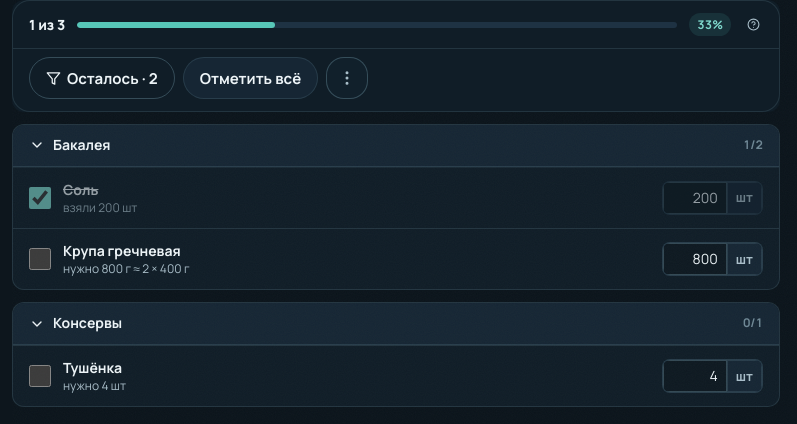
Test: ChecklistTab — прогресс и отметки (подзадача 6) › фильтр «только не взятое» скрывает отмеченные позиции
Click the button with test id "checklist-only-missing".
click(102, 78)  # box [29,57,175,99]
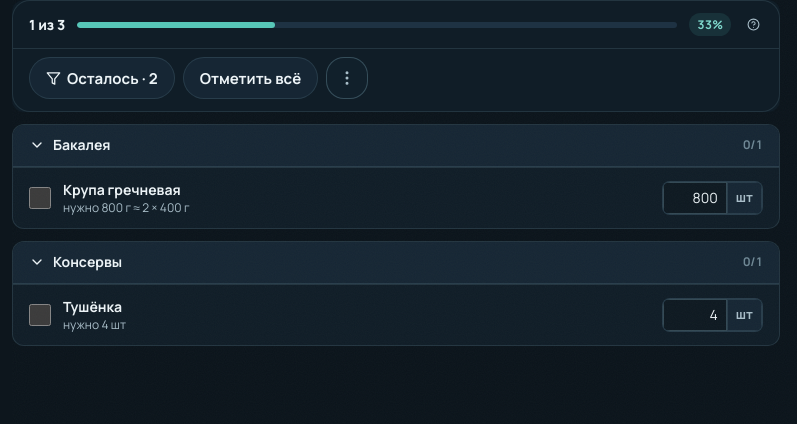
Expected: the text "Тушёнка" is shown, [63,297,122,316]
Result: the button "Соль" is gone
